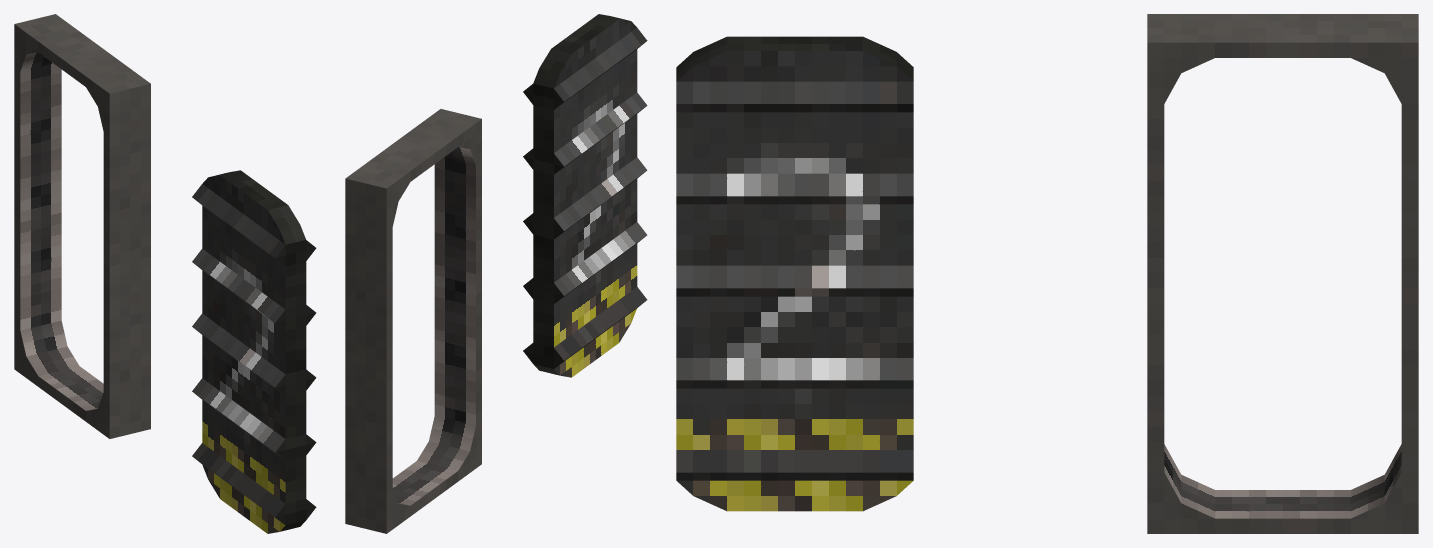
Rendered from sliding_seal_door_open.obj.
3 views of the same model, side by side, from view 1: azimuth 30°, elevation 25°; view 2: azimuth 150°, elevation 25°; view 3: azimuth 270°, elevation 25° (orthographic). The views are drawn at different scales.
Parts seen in each view (by area): view 1: Frame, Door; view 2: Frame, Door; view 3: Door, Frame.
Part boxes in pixels (box(x1,y1,x2,y2)): Frame: box(14, 14, 150, 438); Door: box(192, 170, 316, 533); Frame: box(345, 109, 481, 533); Door: box(523, 14, 647, 377); Door: box(676, 36, 913, 511); Frame: box(1147, 14, 1418, 533).
Bounding box in the file's own units: 0.25 × 2 × 2.74.
